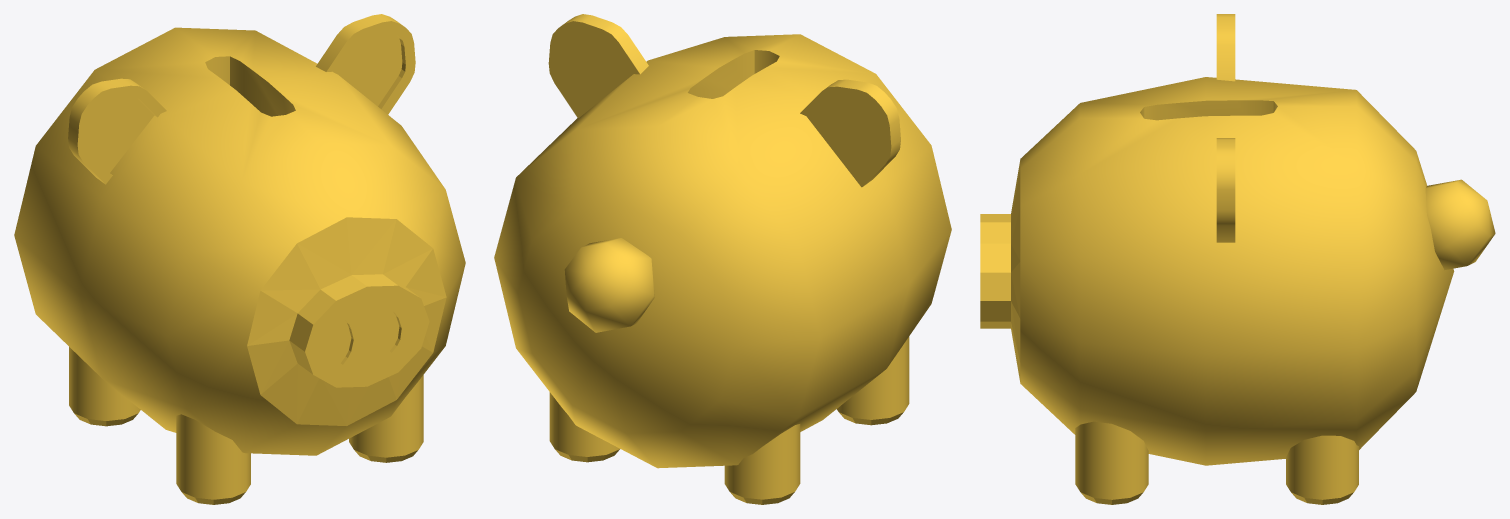
File: Piggy_Bank.fbx
The picture shows the model from 3 angles, left to right: view 1: azimuth 30°, elevation 25°; view 2: azimuth 150°, elevation 25°; view 3: azimuth 270°, elevation 25°; orthographic projection. The views are drawn at different scales.
Visible parts, largest first — view 1: Piggy_Bank; view 2: Piggy_Bank; view 3: Piggy_Bank.
Boxes of the visible parts, x1,y1,x2,y2 form: Piggy_Bank: [14, 14, 465, 504]; Piggy_Bank: [494, 14, 951, 504]; Piggy_Bank: [980, 14, 1495, 504].
Size of the model in its own units: 28.66 by 29.87 by 37.84.
